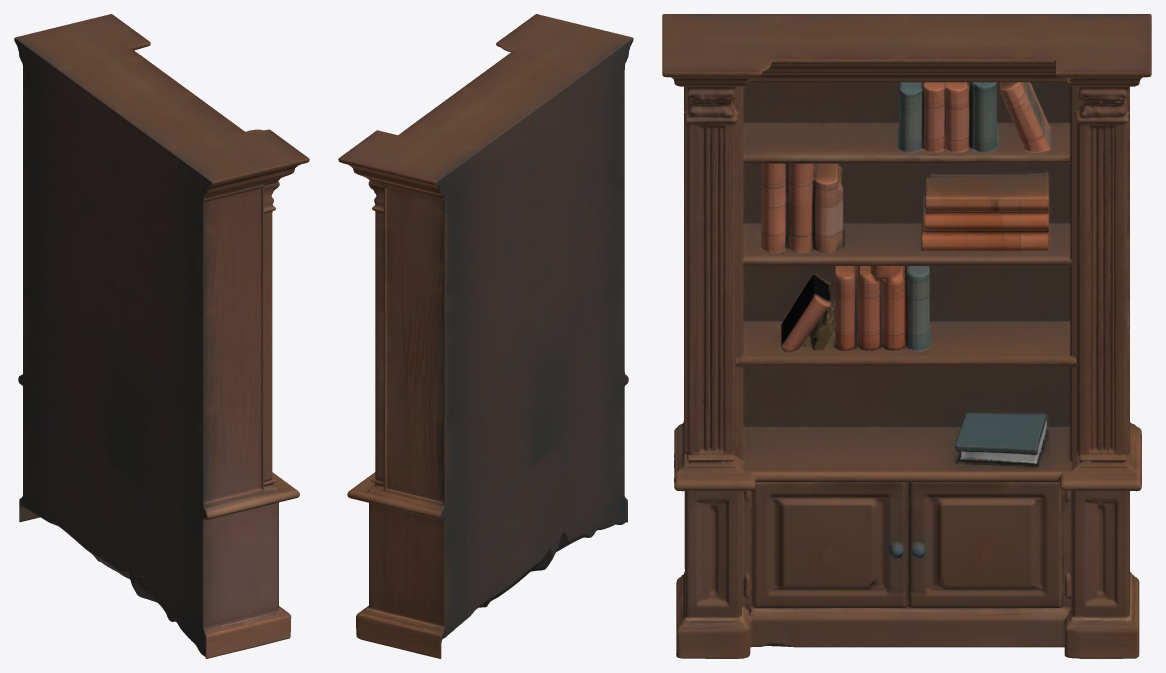
The model's file is detailed_realistic_model_antiquebookshelf_25.glb.
3 renders of one model, left to right at view 1: azimuth 30°, elevation 25°; view 2: azimuth 150°, elevation 25°; view 3: azimuth 270°, elevation 25°, orthographic. The views are drawn at different scales.
Parts seen in each view (by area): view 1: tripo_node_108c3d3b-20c2-44ca-8a85-8fd6d056c85d; view 2: tripo_node_108c3d3b-20c2-44ca-8a85-8fd6d056c85d; view 3: tripo_node_108c3d3b-20c2-44ca-8a85-8fd6d056c85d.
Boxes of the visible parts, x1,y1,x2,y2 form: tripo_node_108c3d3b-20c2-44ca-8a85-8fd6d056c85d: (14,14,309,658); tripo_node_108c3d3b-20c2-44ca-8a85-8fd6d056c85d: (338,14,633,658); tripo_node_108c3d3b-20c2-44ca-8a85-8fd6d056c85d: (662,14,1151,658).
Bounding box in the file's own units: 0.2136 × 1 × 0.7463.
1 material, 1 textured.
